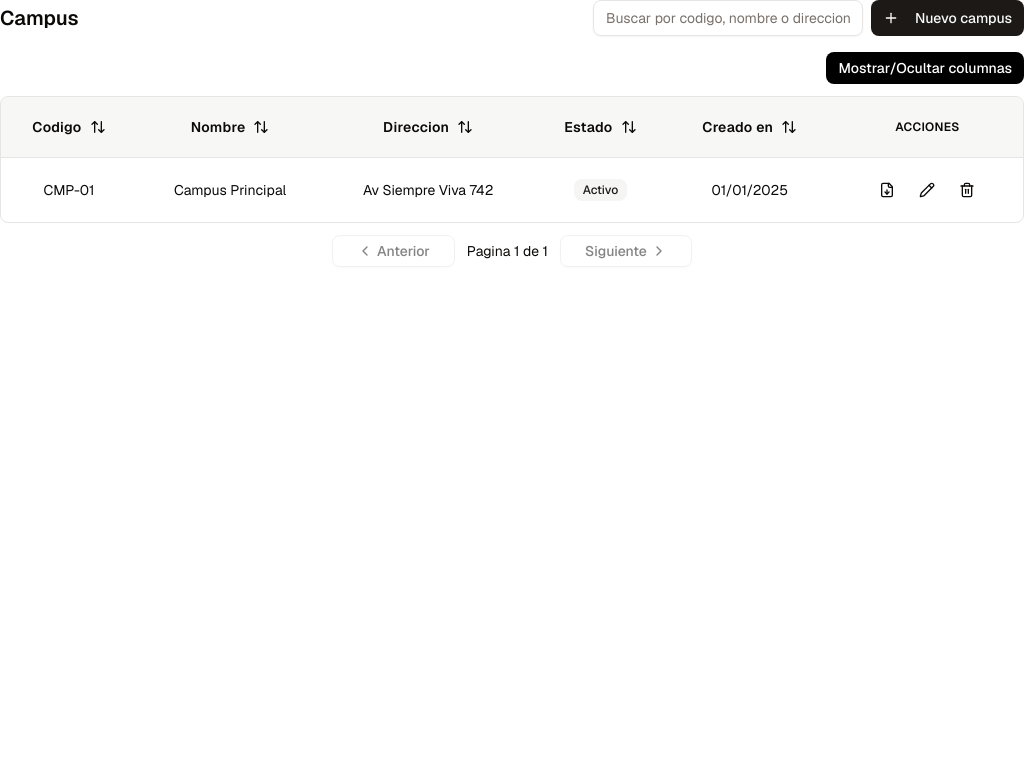
CampusListPage edit flow › shows the delete confirmation dialog with the campus details
The image size is (1024, 768).
Check: the text "Campus Principal" is shown, box [174,181,286,199]
# Disparamos la apertura del dialogo de confirmacion.
What coordinates should you click on to do the following:
click the button titled "eliminar"
I would click on:
 (967, 190)
Its box is [949,172,985,208].
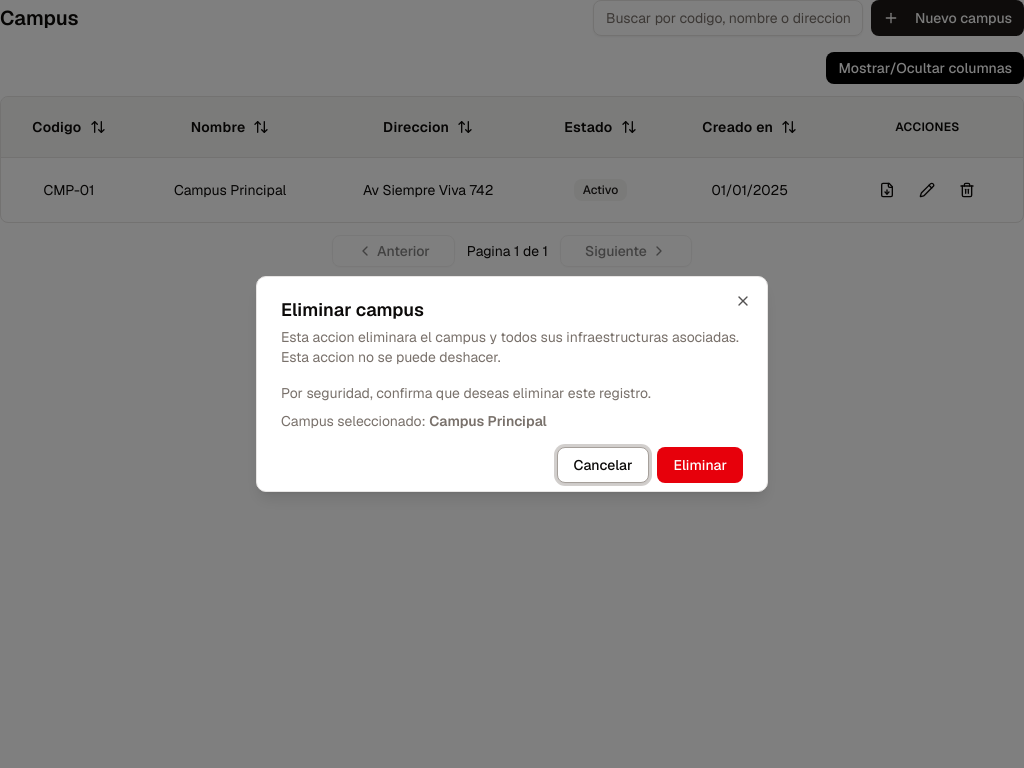
Check: the heading "Eliminar campus" is shown, box [281,298,424,321]
Check: the text "Campus Principal" is shown, box [429,412,547,430]
